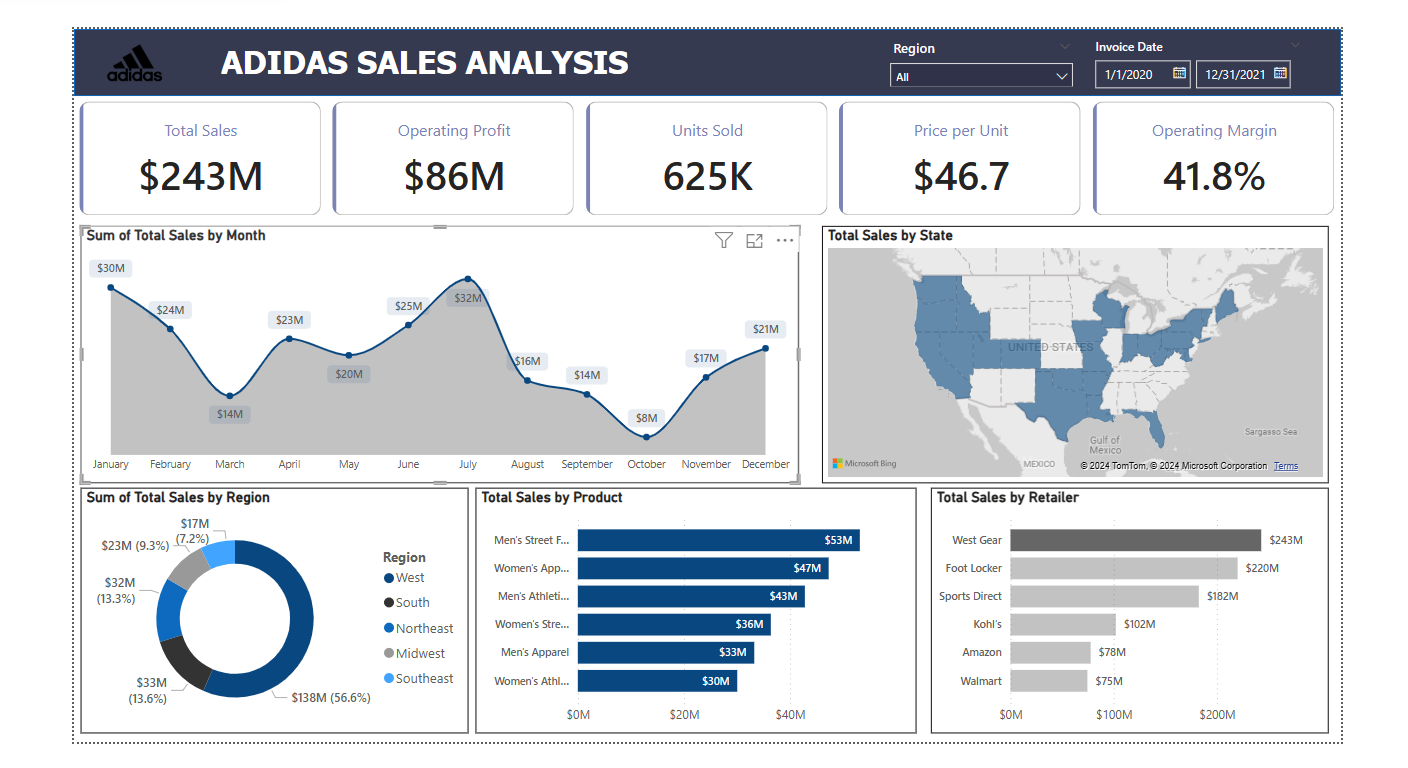

What the dashboard file says about the page in this screenshot:
{"tool":"powerbi","page":{"name":"Adidas Dashboard","canvas":[1280,720],"ordinal":0},"visuals":[{"type":"shape","box":[0,0,1280,67.8],"z":0},{"type":"textbox","box":[143.3,7.8,431.1,52.2],"z":1000},{"type":"image","box":[24.4,10,74.4,47.8],"z":2000},{"type":"cardVisual","fields":{"Data":["Sum(Data Sales Adidas.Total Sales)","Sum(Data Sales Adidas.Operating Profit)","Sum(Data Sales Adidas.Units Sold)","Avg(Data Sales Adidas.Price per Unit)","Avg(Data Sales Adidas.Operating Margin)"]},"box":[0,67.8,1280,125.6],"z":3000},{"type":"areaChart","fields":{"Category":["Data Sales Adidas.Invoice Date.Variation.Date Hierarchy.Month"],"Y":["Sum(Data Sales Adidas.Total Sales)"]},"box":[6.7,198.9,725.6,260],"z":4000},{"type":"filledMap","title":"Total Sales by State","fields":{"Category":["Data Sales Adidas.State"],"Y":["Sum(Data Sales Adidas.Total Sales)"]},"box":[755.6,198.9,512.2,260],"z":5000},{"type":"donutChart","fields":{"Category":["Data Sales Adidas.Region"],"Y":["Sum(Data Sales Adidas.Total Sales)"]},"box":[6.7,463.3,392.2,247.8],"z":6000},{"type":"barChart","title":"Total Sales by Product","fields":{"Category":["Data Sales Adidas.Product"],"Y":["Sum(Data Sales Adidas.Total Sales)"]},"box":[405.6,463.3,445.6,247.8],"z":7000},{"type":"barChart","title":"Total Sales by Retailer","fields":{"Y":["Sum(Data Sales Adidas.Total Sales)"],"Category":["Data Sales Adidas.Retailer"]},"box":[865.6,463.3,402.2,247.8],"z":8000},{"type":"slicer","fields":{"Values":["Data Sales Adidas.Region"]},"box":[814.4,4.4,204.4,53.3],"z":9000},{"type":"slicer","fields":{"Values":["Data Sales Adidas.Invoice Date"]},"box":[1018.9,4.4,232.2,60],"z":10000}]}

Visuals, with their boxes on the page's 1280x720 design canvas (x1, y1, x2, y2). These are canvas units, not pixel positions in the 1408x768 screenshot, which may show the page scaled, cropped or inside an application window:
shape: l=0, t=0, r=1280, b=68
textbox: l=143, t=8, r=574, b=60
image: l=24, t=10, r=99, b=58
cardVisual - Sum(Data Sales Adidas.Total Sales) x Sum(Data Sales Adidas.Operating Profit): l=0, t=68, r=1280, b=193
areaChart - Data Sales Adidas.Invoice Date.Variation.Date Hierarchy.Month x Sum(Data Sales Adidas.Total Sales): l=7, t=199, r=732, b=459
"Total Sales by State" filledMap: l=756, t=199, r=1268, b=459
donutChart - Data Sales Adidas.Region x Sum(Data Sales Adidas.Total Sales): l=7, t=463, r=399, b=711
"Total Sales by Product" barChart: l=406, t=463, r=851, b=711
"Total Sales by Retailer" barChart: l=866, t=463, r=1268, b=711
slicer - Data Sales Adidas.Region: l=814, t=4, r=1019, b=58
slicer - Data Sales Adidas.Invoice Date: l=1019, t=4, r=1251, b=64
